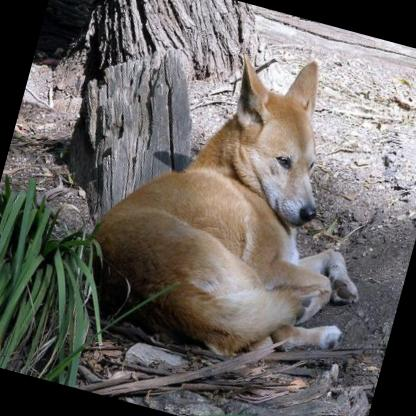dingo: (67, 10, 416, 386)
